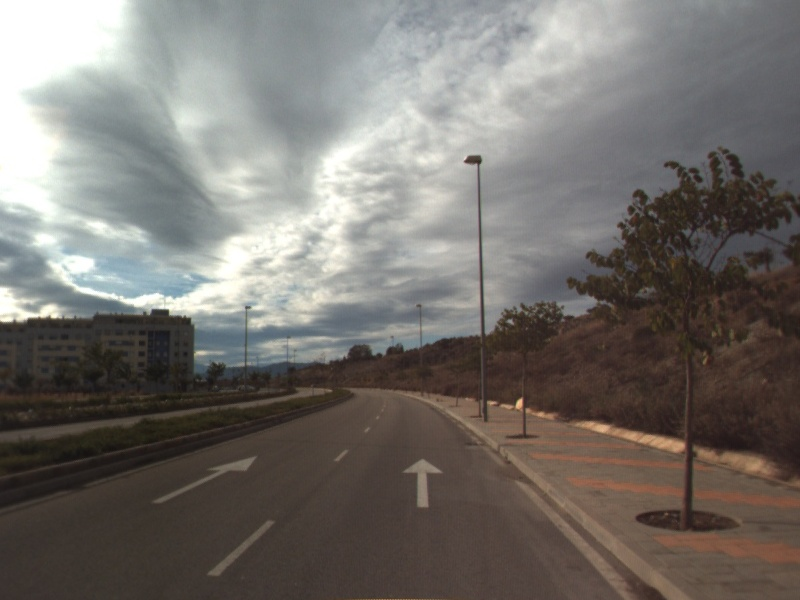STRAIGHT: (149, 454, 260, 506), (400, 456, 446, 509)
